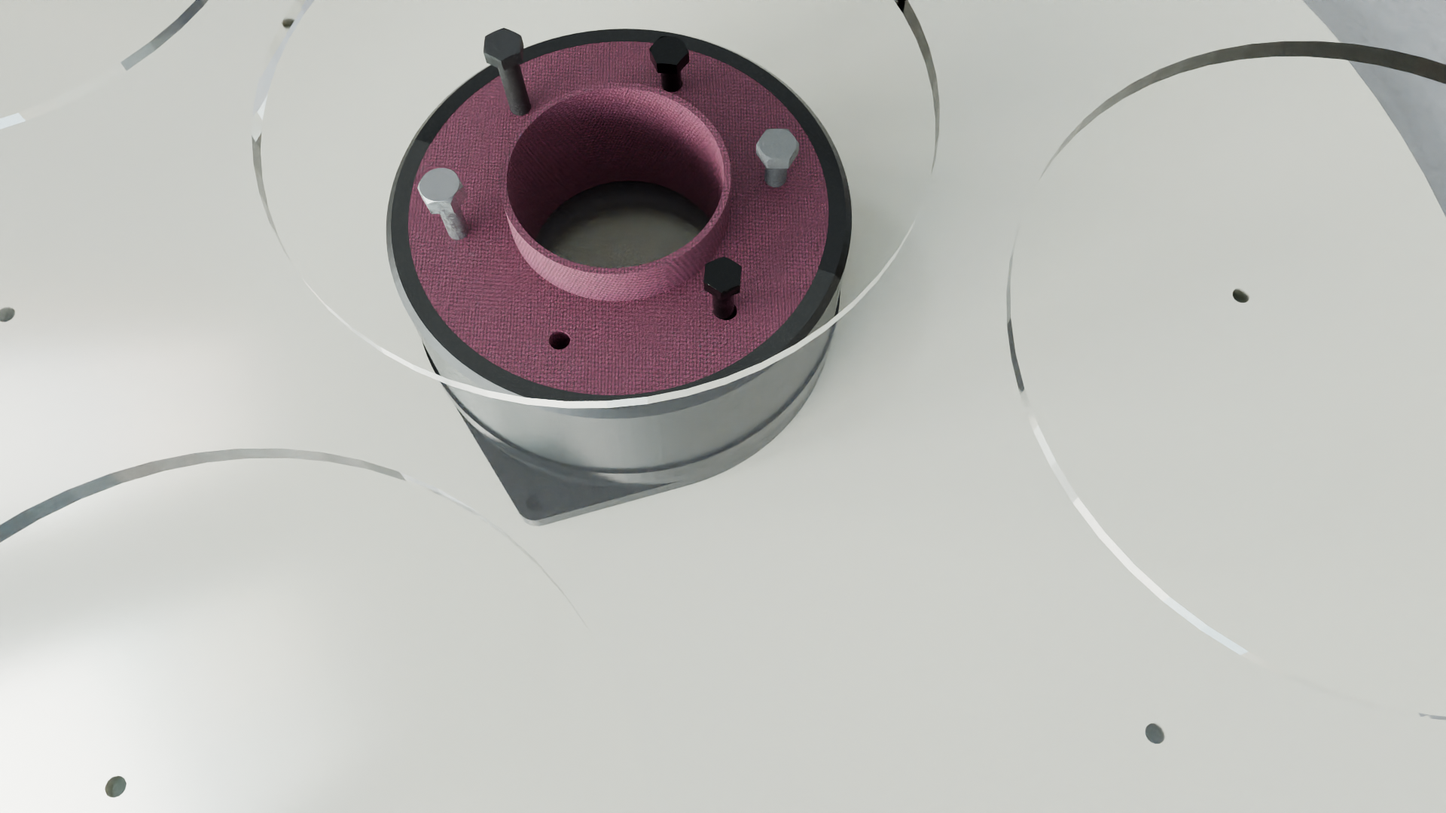bolt: (417, 168, 463, 204), (703, 257, 742, 293), (756, 129, 799, 160), (484, 28, 521, 61), (649, 36, 688, 65)
